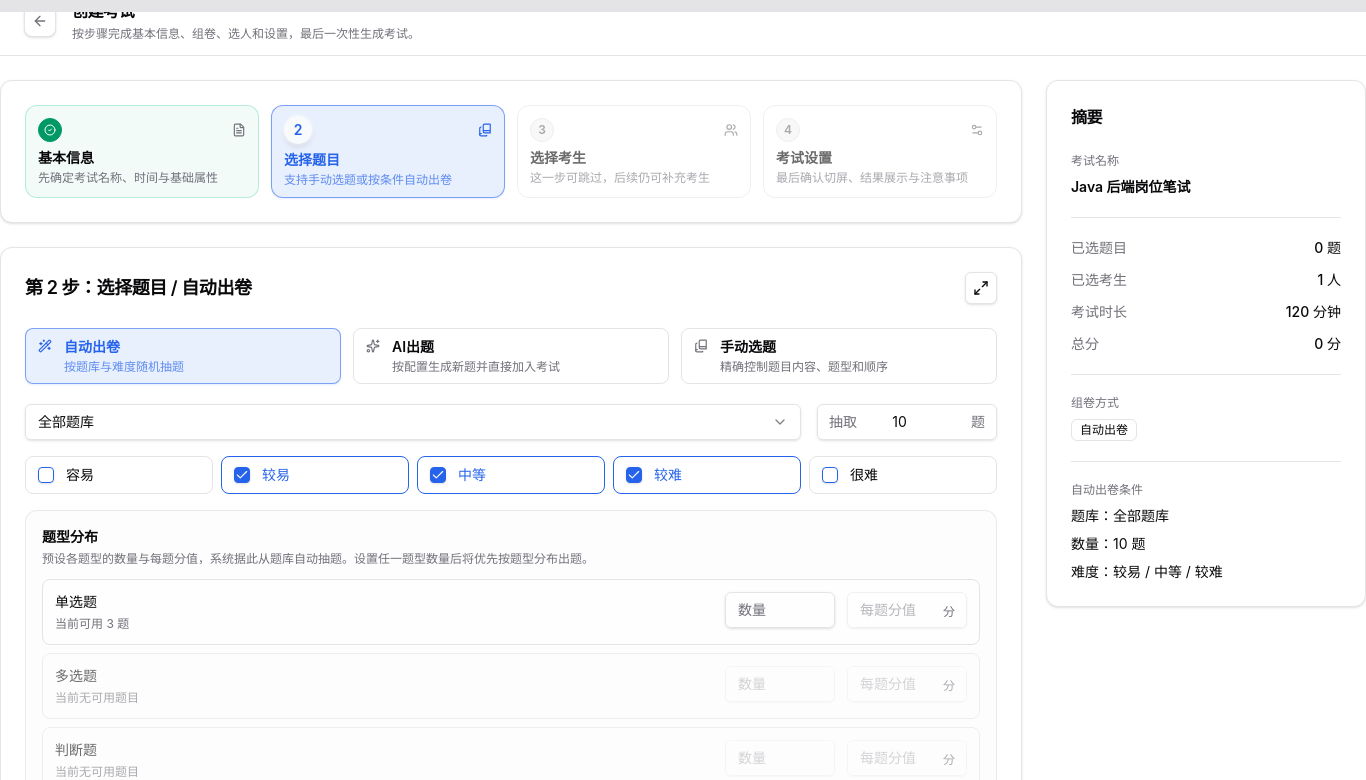
ExamWizardForm › uses default per-type scores and updates the summary total before generation
This screenshot has width=1366, height=780.
In the number field named "单选题数量": [780, 610] box [725,592,835,628], type "2"
(page scrolled)
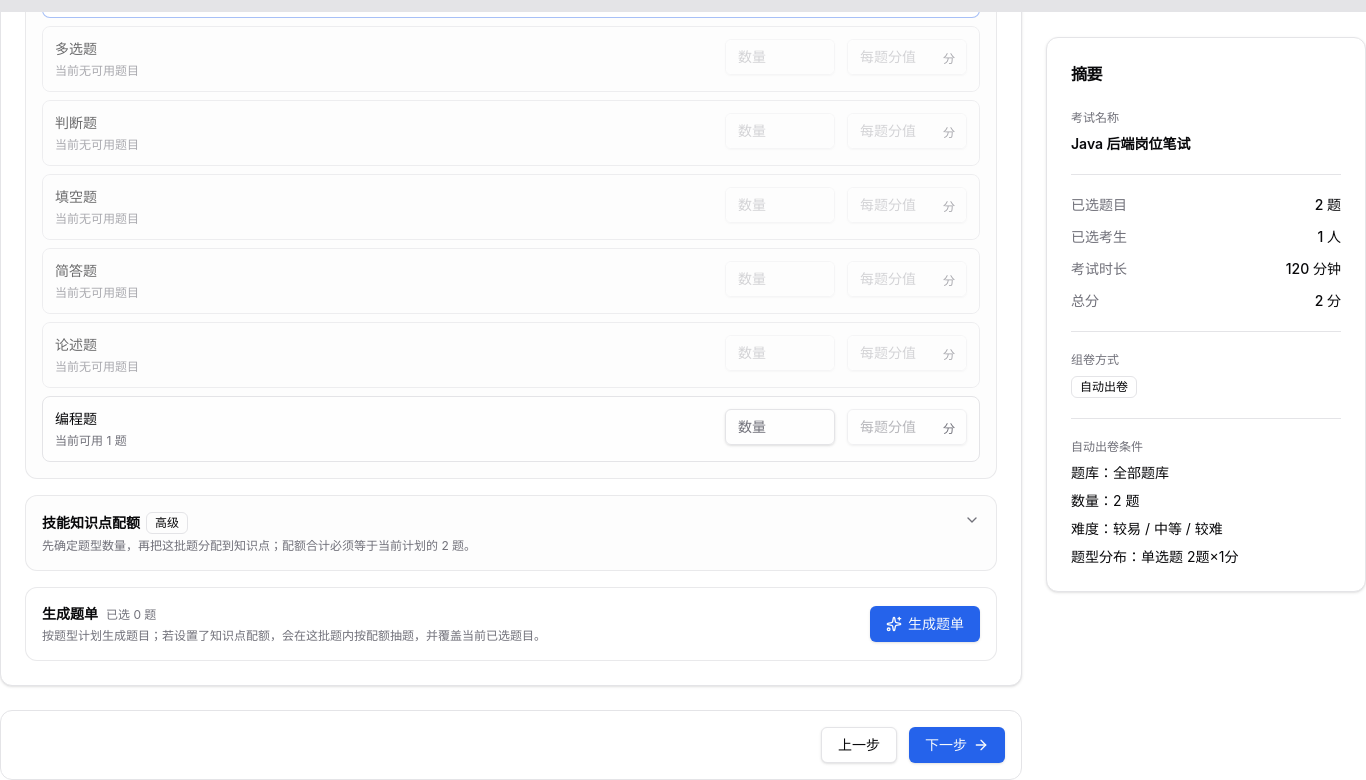
In the number field named "编程题数量": [780, 426] box [725,408,835,444], type "1"
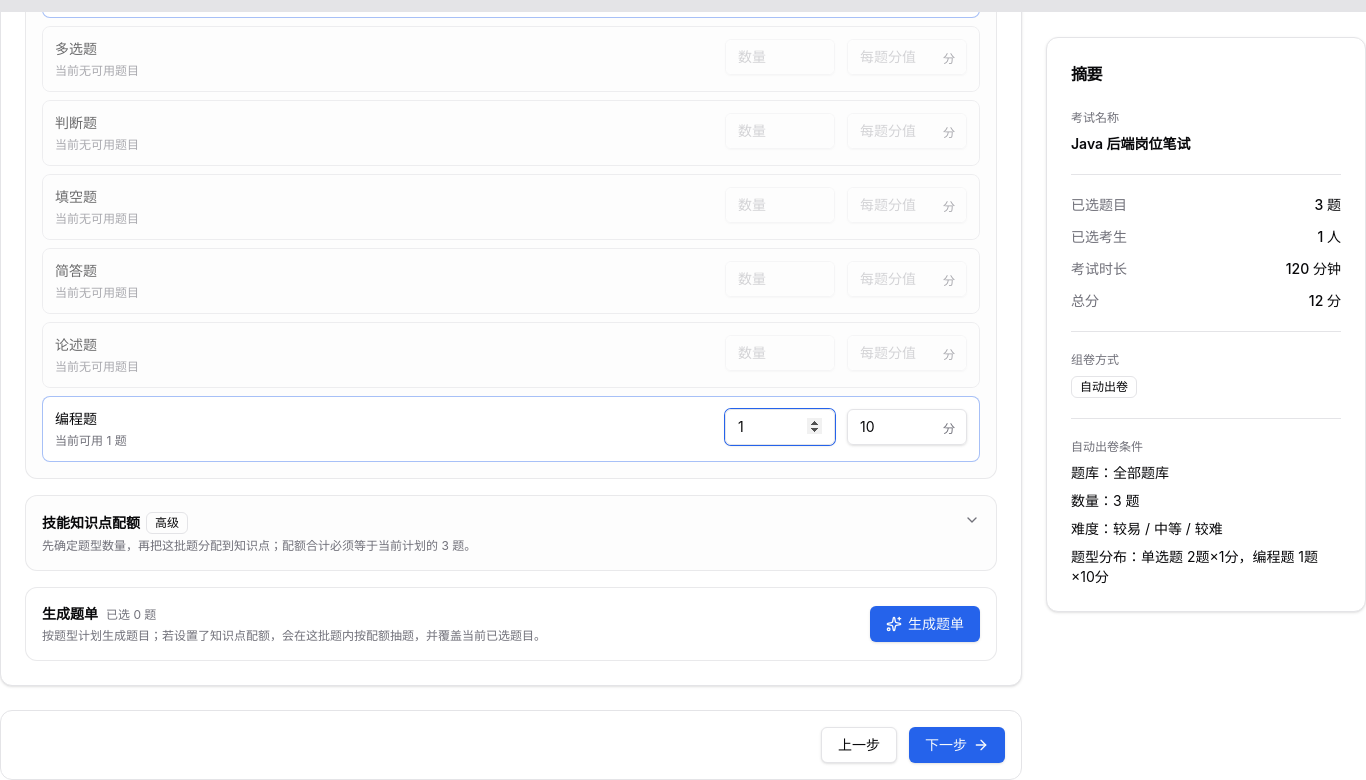
Expected: the number field named "编程题每题分值" holds "10", [847,408,967,444]
Expected: the text "12 分" is shown, [1309,290,1341,310]
